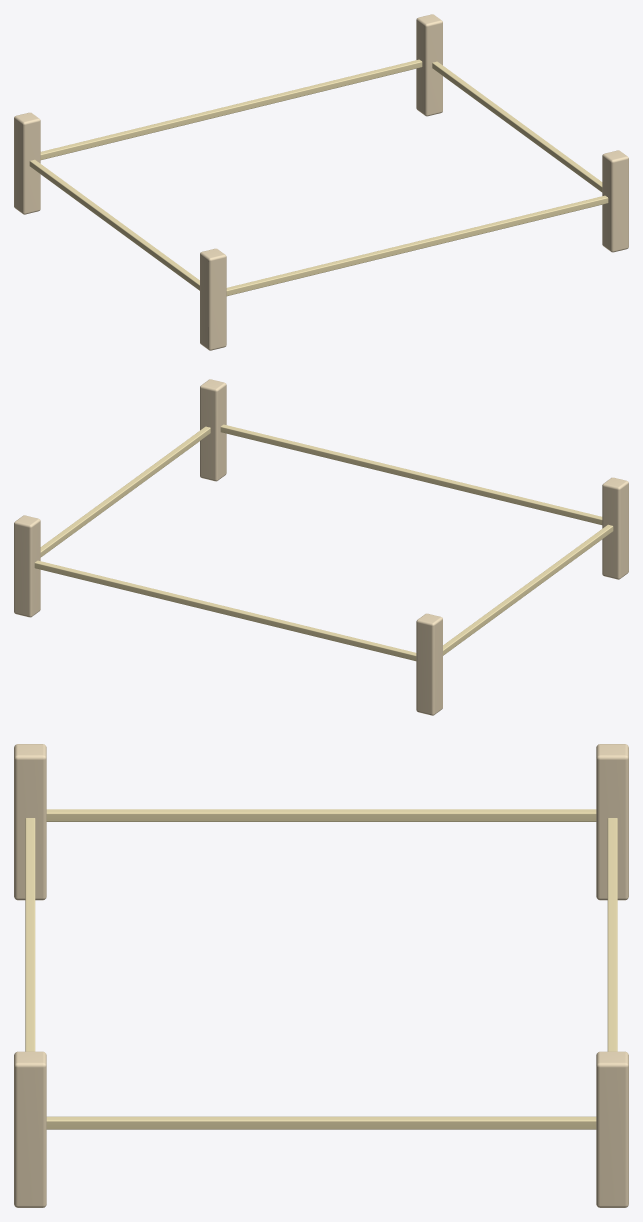
Rendered from feed-store-planned.glb.
3 views of the same model, one above another, from view 1: azimuth 30°, elevation 25°; view 2: azimuth 150°, elevation 25°; view 3: azimuth 270°, elevation 25° (orthographic). The views are drawn at different scales.
Visible parts, largest first — view 1: Setting-out cord.008, Setting-out cord.009, Survey peg.008, Survey peg.010, Survey peg.009, Survey peg.011, Setting-out cord.011, Setting-out cord.010; view 2: Setting-out cord.008, Setting-out cord.009, Survey peg.009, Survey peg.011, Survey peg.008, Survey peg.010, Setting-out cord.011, Setting-out cord.010; view 3: Setting-out cord.011, Setting-out cord.010, Survey peg.010, Survey peg.011, Survey peg.008, Survey peg.009, Setting-out cord.008, Setting-out cord.009.
Boxes of the visible parts, x1,y1,x2,y2 form: Setting-out cord.008: (226,195,608,296); Setting-out cord.009: (40,59,422,159); Survey peg.008: (200,248,226,350); Survey peg.010: (602,150,628,252); Survey peg.009: (14,112,40,214); Survey peg.011: (416,14,442,116); Setting-out cord.011: (432,61,602,192); Setting-out cord.010: (29,159,199,290); Setting-out cord.008: (220,424,602,524); Setting-out cord.009: (34,560,416,661); Survey peg.009: (416,613,442,715); Survey peg.011: (14,515,40,617); Survey peg.008: (602,477,628,579); Survey peg.010: (200,379,226,481); Setting-out cord.011: (40,426,210,557); Setting-out cord.010: (443,524,613,655); Setting-out cord.011: (46,1116,596,1129); Setting-out cord.010: (46,809,596,821); Survey peg.010: (14,1051,46,1207); Survey peg.011: (596,1051,628,1207); Survey peg.008: (14,744,46,900); Survey peg.009: (596,744,628,900); Setting-out cord.008: (25,818,35,1051); Setting-out cord.009: (607,818,617,1051).
Size of the model in its own units: 2.09 by 0.44 by 1.69.
